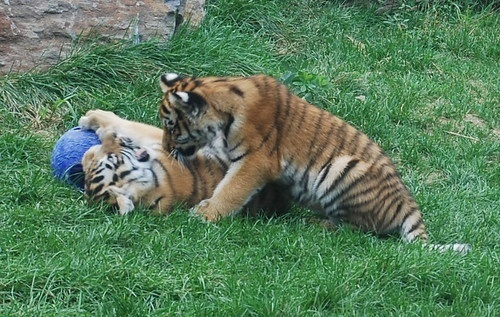tigre: (158, 70, 467, 253), (76, 106, 208, 215)
